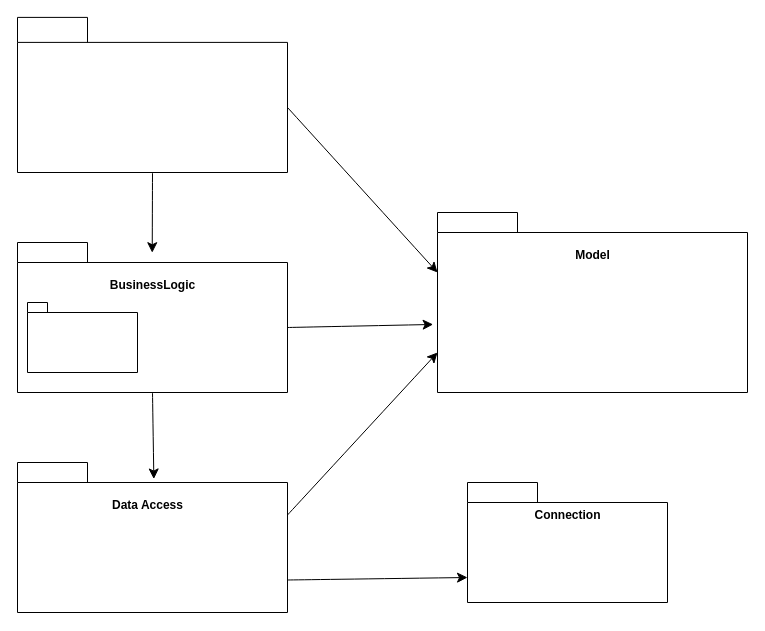
Image size: 765x631. Some labels were removed from this diagram. Each missing label, with the centre of its shape:
Presentation: (152,94)
validators: (82,337)
